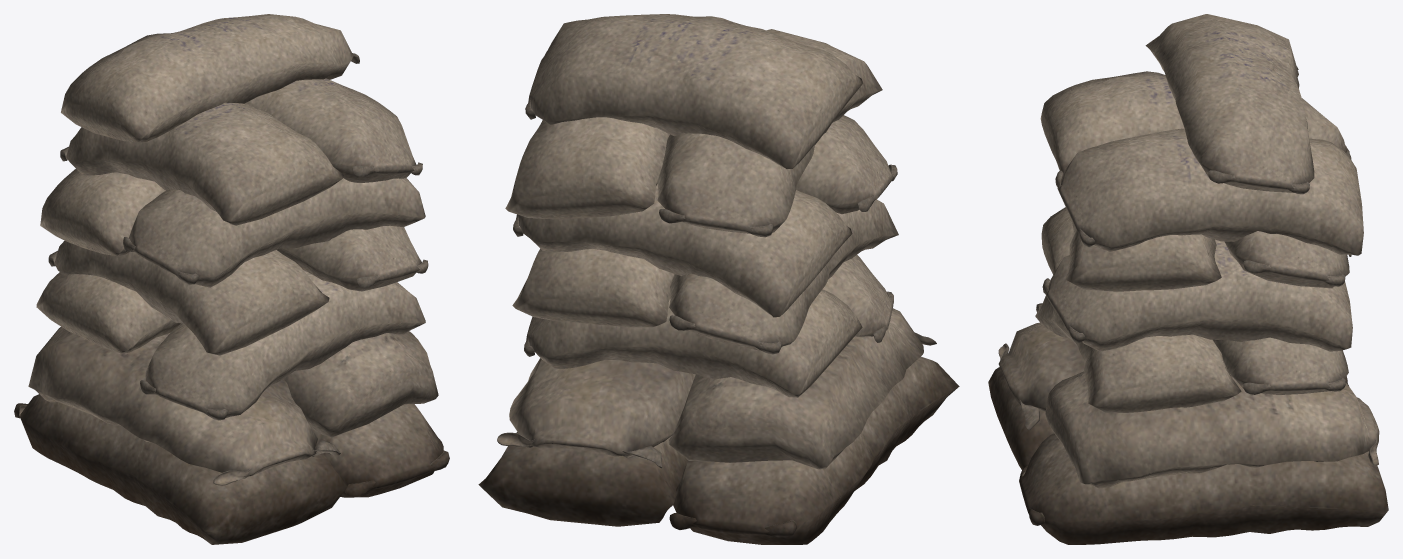
File: SM_FAR_Blocker_01_Merged.fbx
3 views of the same model, side by side, from view 1: azimuth 30°, elevation 25°; view 2: azimuth 150°, elevation 25°; view 3: azimuth 270°, elevation 25° (orthographic). The views are drawn at different scales.
Parts seen in each view (by area): view 1: SM_FAR_Blocker_01_Merged.mo; view 2: SM_FAR_Blocker_01_Merged.mo; view 3: SM_FAR_Blocker_01_Merged.mo.
Boxes of the visible parts, bbox=[...] form: SM_FAR_Blocker_01_Merged.mo: bbox=[14, 14, 449, 544]; SM_FAR_Blocker_01_Merged.mo: bbox=[478, 14, 959, 544]; SM_FAR_Blocker_01_Merged.mo: bbox=[988, 14, 1388, 544].
Size of the model in its own units: 74.48 by 97.23 by 80.7.
